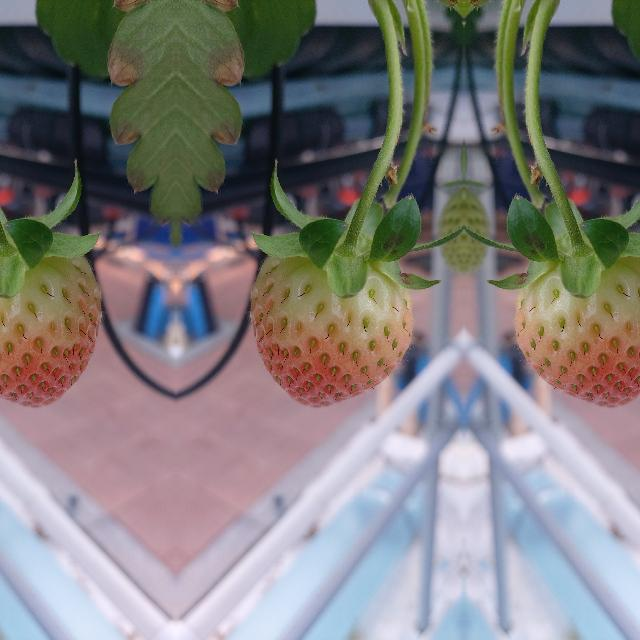Health_75: (250, 256, 412, 408), (514, 256, 640, 407), (0, 256, 100, 407)
